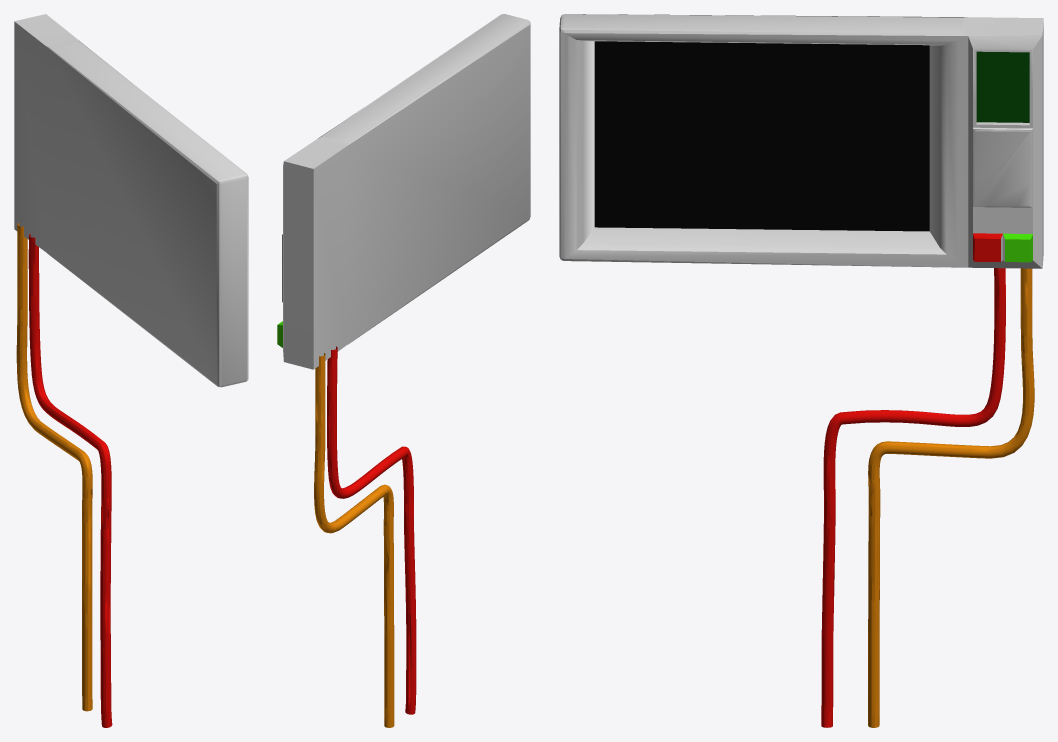
The model's file is SpaceShipMonitor.glb.
3 views of the same model, side by side, from view 1: azimuth 30°, elevation 25°; view 2: azimuth 150°, elevation 25°; view 3: azimuth 270°, elevation 25° (orthographic). The views are drawn at different scales.
Visible parts, largest first — view 1: ComputerScreen; view 2: ComputerScreen; view 3: ComputerScreen.
Part boxes in pixels (x1,y1,x2,y2): ComputerScreen: (14, 14, 248, 727); ComputerScreen: (277, 14, 530, 727); ComputerScreen: (559, 14, 1043, 727).
Size of the model in its own units: 0.1203 by 1.34 by 0.829.
